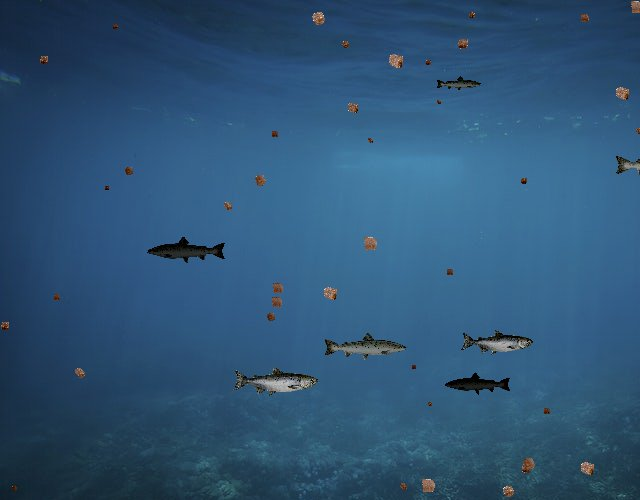Fish: (322, 331, 408, 362), (232, 366, 318, 397), (146, 236, 227, 265), (461, 329, 534, 355), (445, 372, 513, 396), (436, 75, 483, 92)
Pellet: (516, 451, 542, 477), (496, 479, 521, 500), (68, 362, 90, 384), (575, 9, 594, 28), (516, 174, 530, 188), (422, 57, 435, 70), (109, 21, 121, 33)
